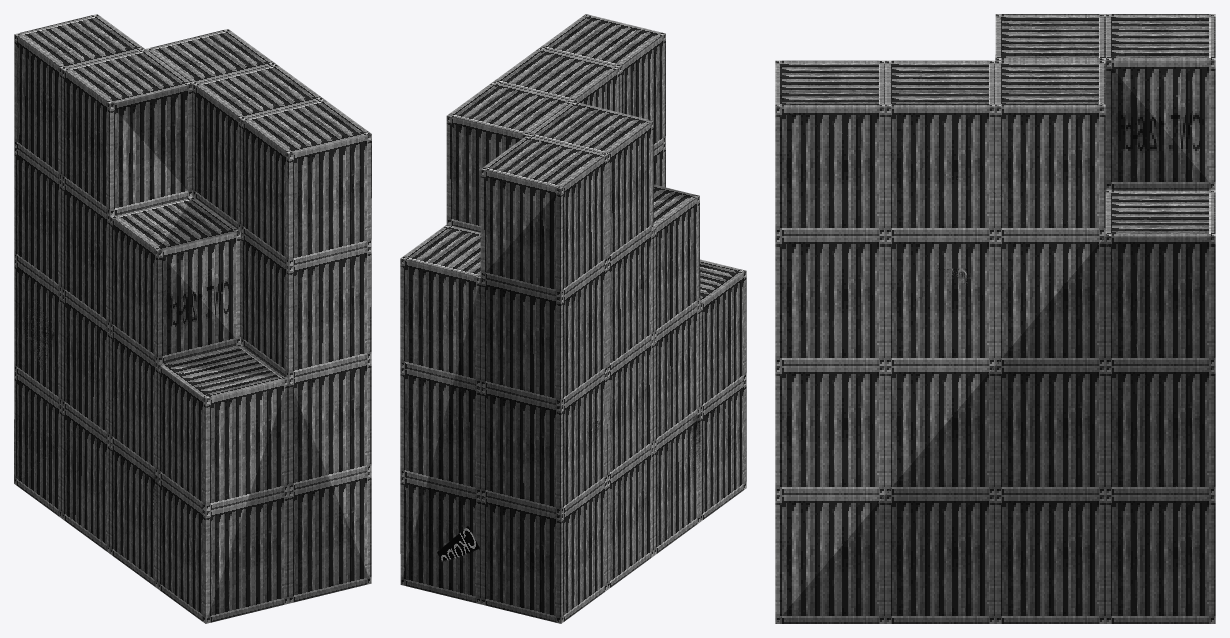
The model's file is metal_crate_stack_4.glb.
3 views of the same model, side by side, from view 1: azimuth 30°, elevation 25°; view 2: azimuth 150°, elevation 25°; view 3: azimuth 270°, elevation 25° (orthographic). The views are drawn at different scales.
Parts seen in each view (by area): view 1: Object; view 2: Object; view 3: Object.
Part boxes in pixels (bbox=[...]): Object: bbox=[14, 14, 371, 623]; Object: bbox=[400, 14, 746, 623]; Object: bbox=[775, 14, 1215, 623].
Size of the model in its own units: 2.9 by 7.51 by 5.8.
Materials: 8 (8 with a texture image).
